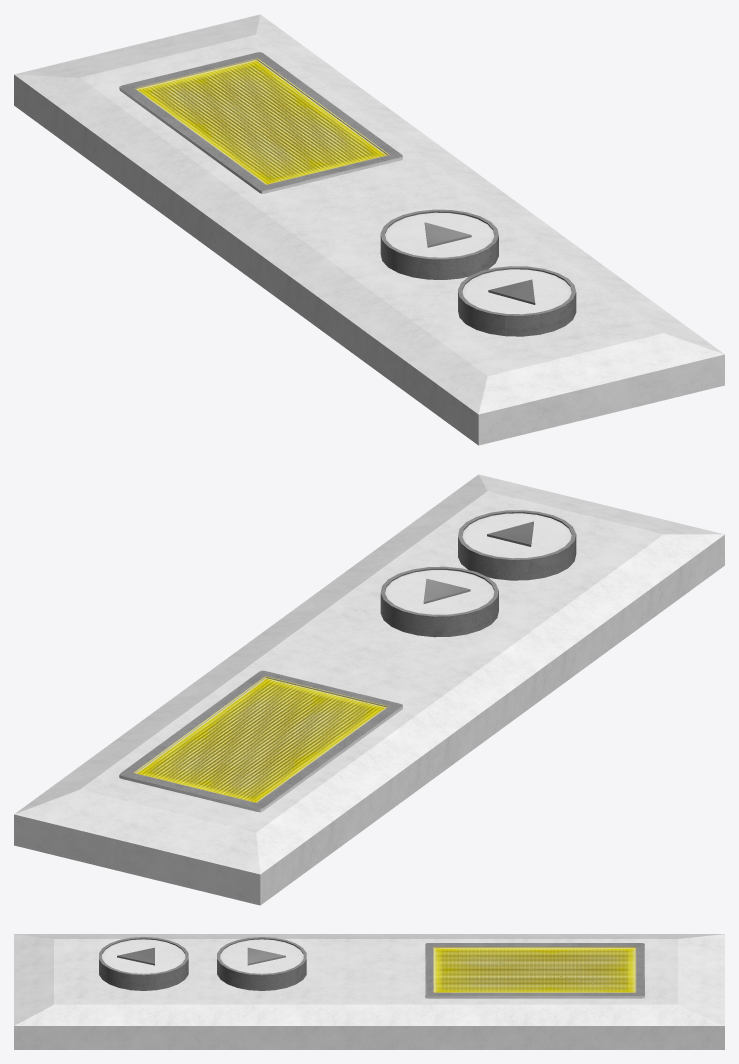
The model's file is Control.fbx.
3 renders of one model, top to bottom at view 1: azimuth 30°, elevation 25°; view 2: azimuth 150°, elevation 25°; view 3: azimuth 270°, elevation 25°, orthographic. The views are drawn at different scales.
Visible parts, largest first — view 1: Box001, Cylinder002, Cylinder001; view 2: Box001, Cylinder001, Cylinder002; view 3: Box001, Cylinder001, Cylinder002.
Part boxes in pixels (bbox=[...]): Box001: bbox=[14, 14, 724, 445]; Cylinder002: bbox=[458, 266, 576, 336]; Cylinder001: bbox=[380, 209, 498, 279]; Box001: bbox=[14, 474, 724, 905]; Cylinder001: bbox=[380, 566, 498, 637]; Cylinder002: bbox=[458, 510, 576, 580]; Box001: bbox=[14, 934, 724, 1049]; Cylinder001: bbox=[217, 937, 306, 990]; Cylinder002: bbox=[99, 937, 188, 990].
Size of the model in its own units: 9.25 by 2.27 by 30.21.
1 material, 1 textured.
